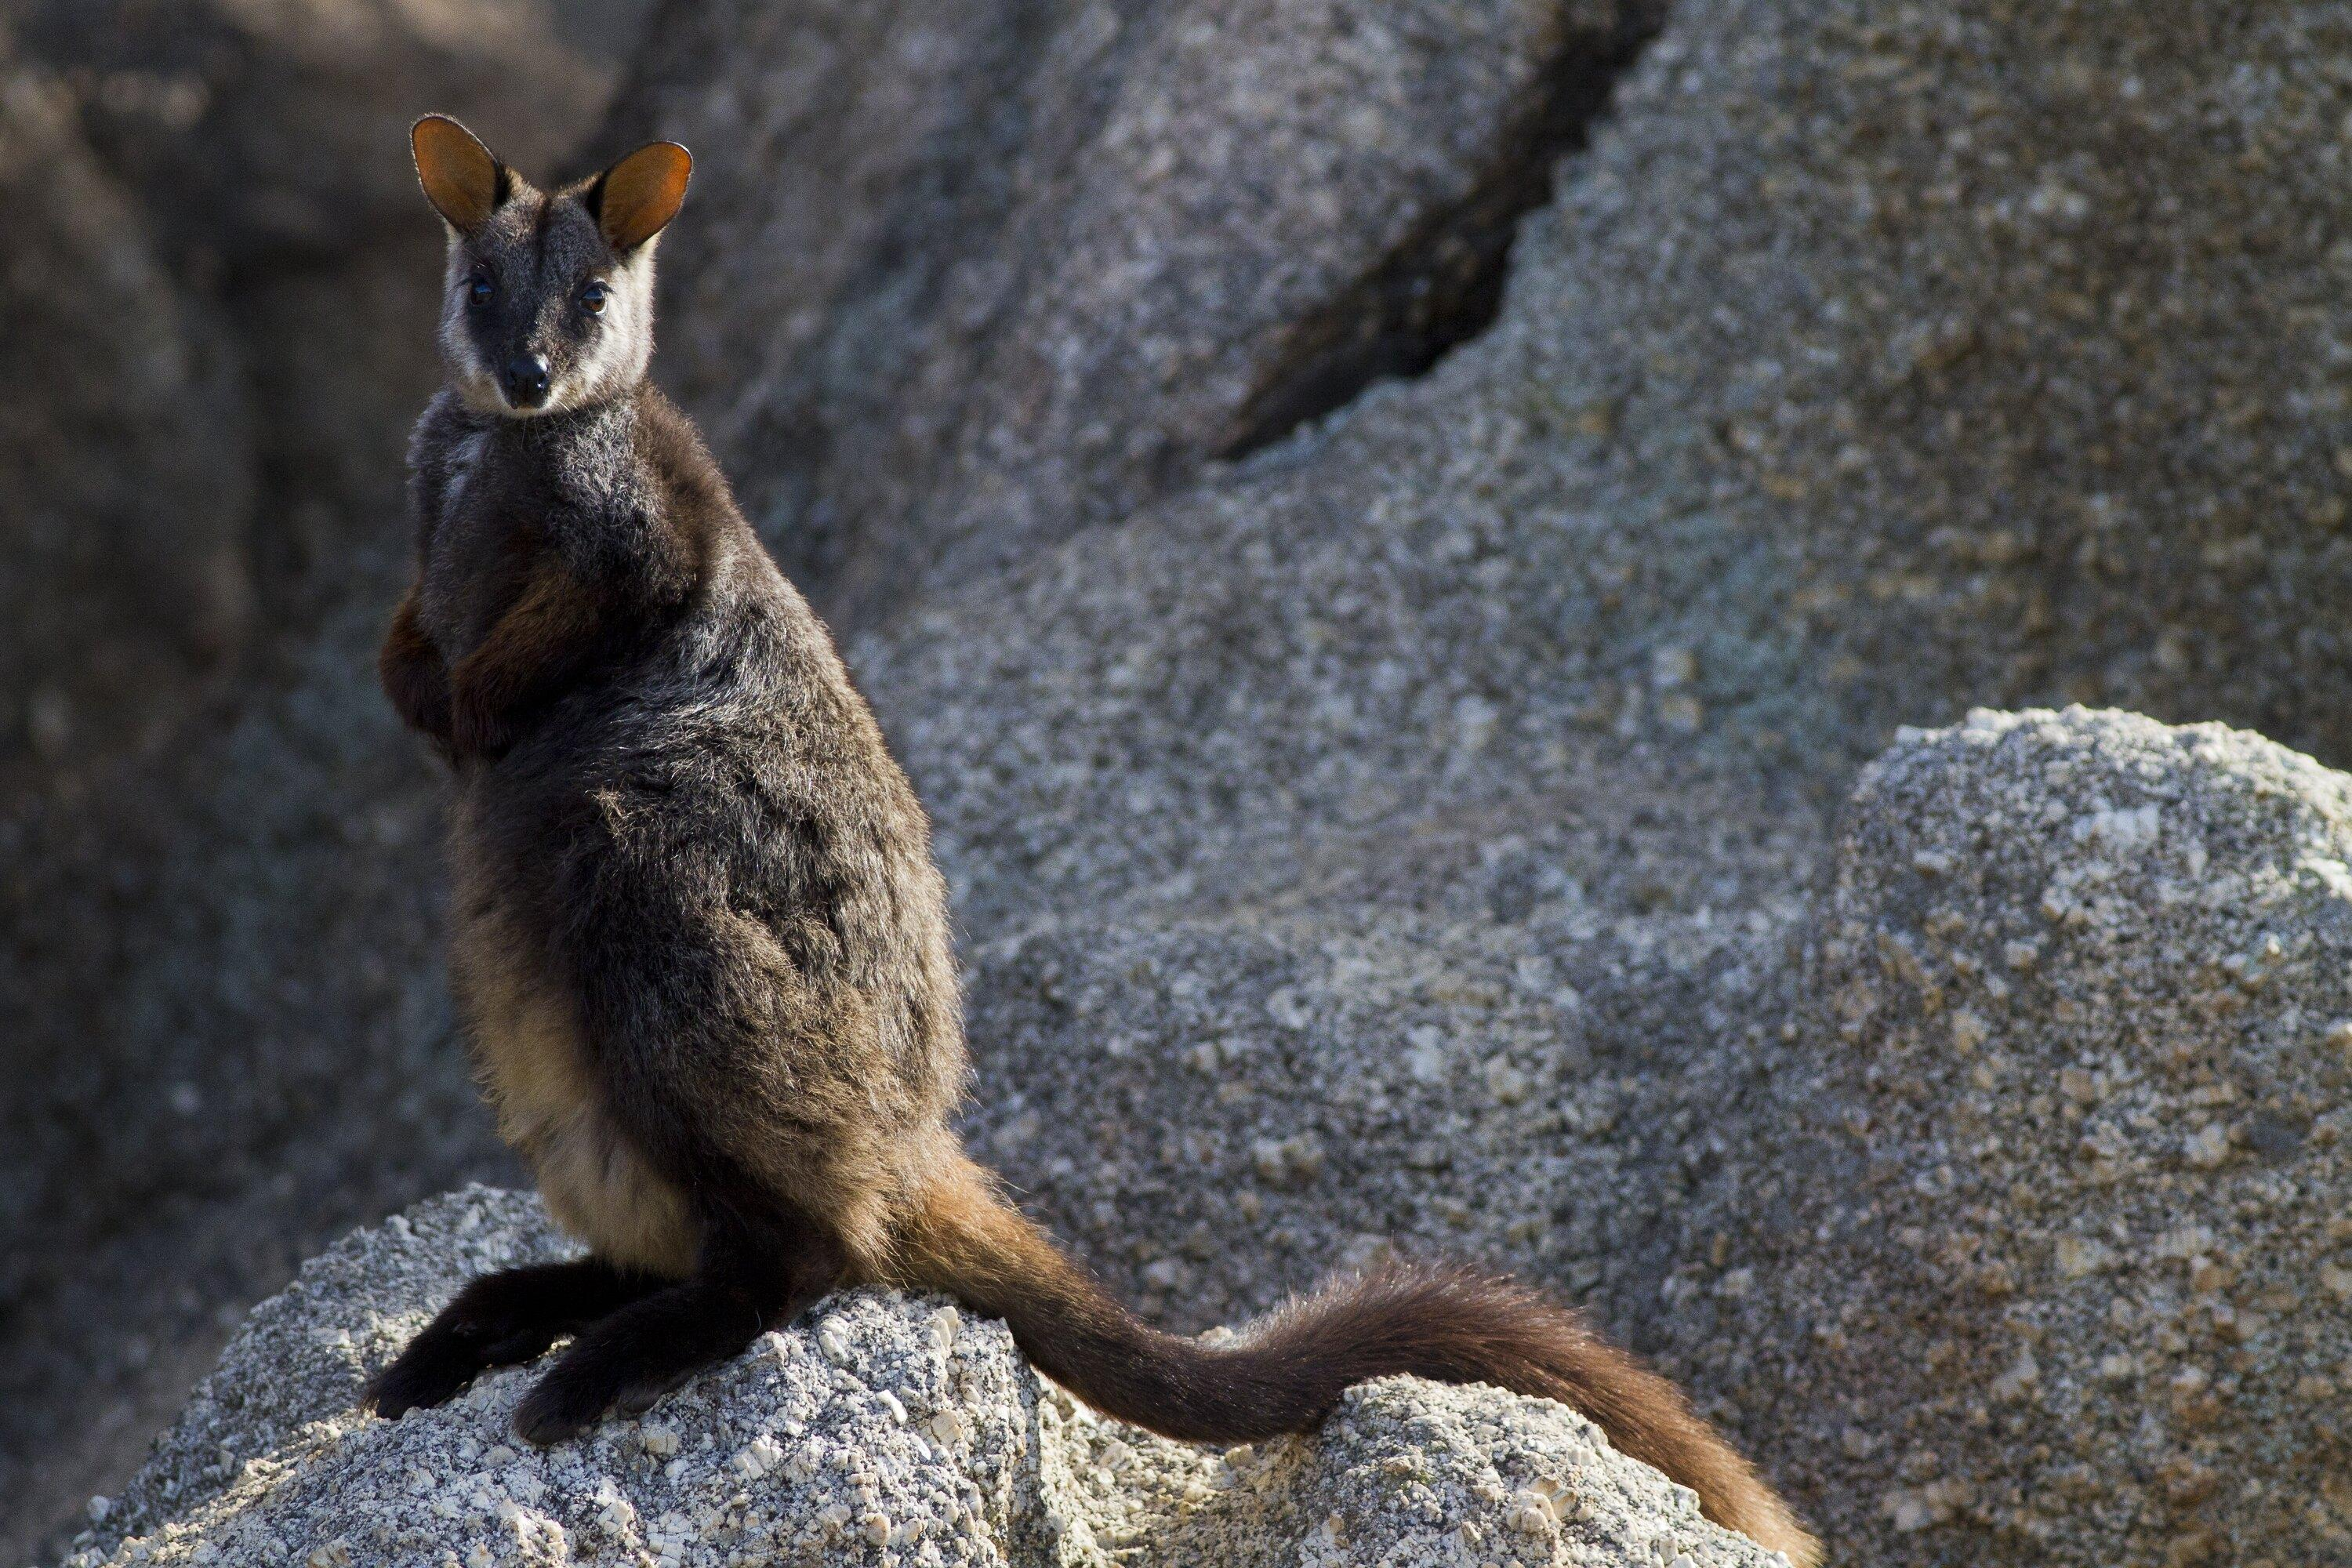Brush-tailed rock-wallaby: (369, 96, 1824, 1516)
